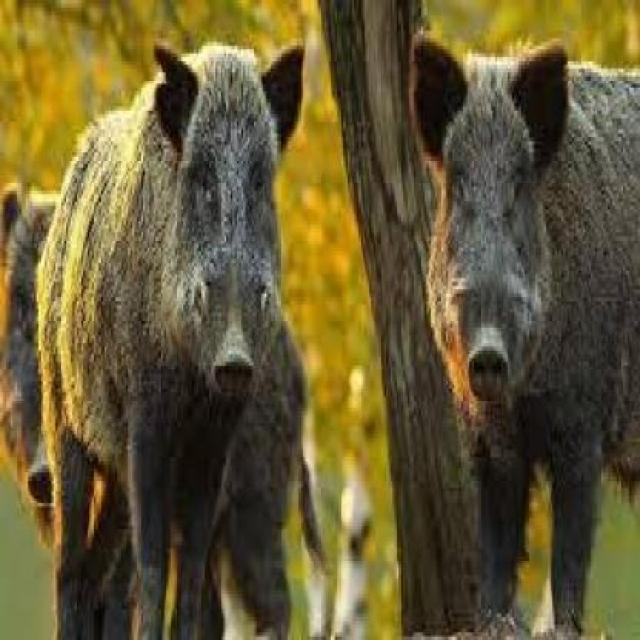wildboar: (29, 24, 309, 640), (0, 171, 334, 640), (400, 29, 640, 636)
